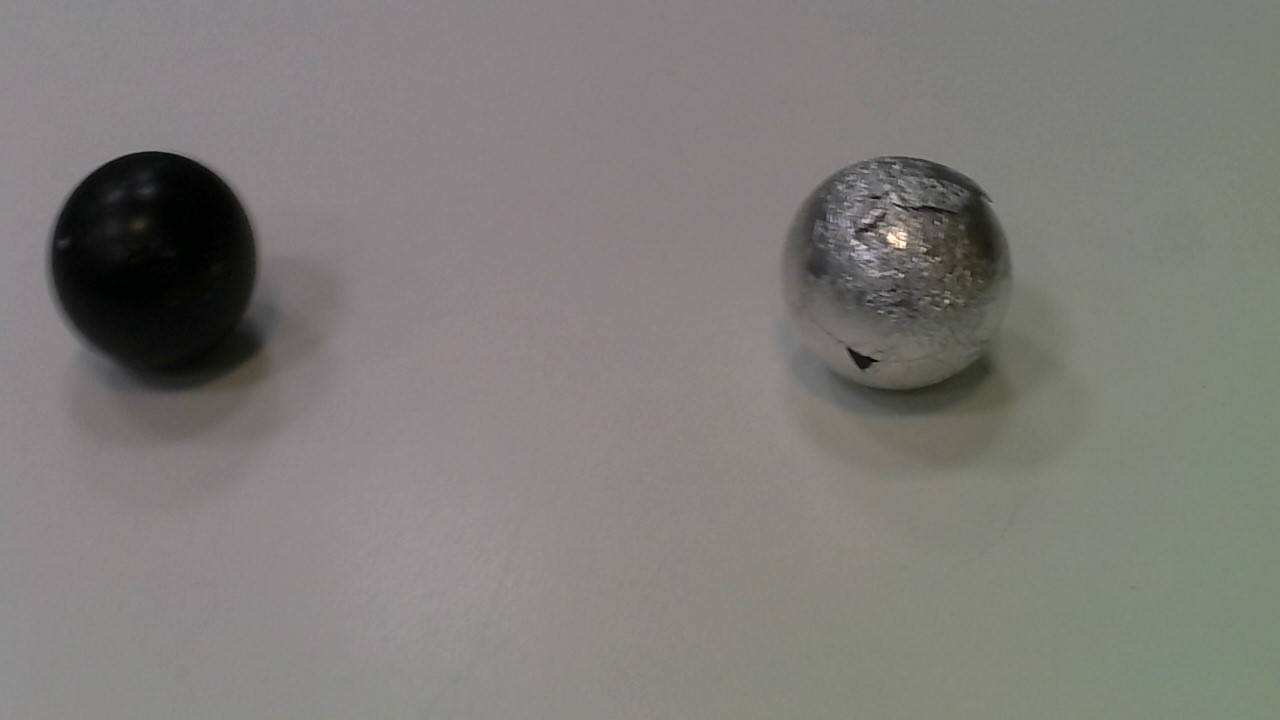black_ball: (38, 147, 267, 371)
silver_ball: (773, 150, 1021, 400)
